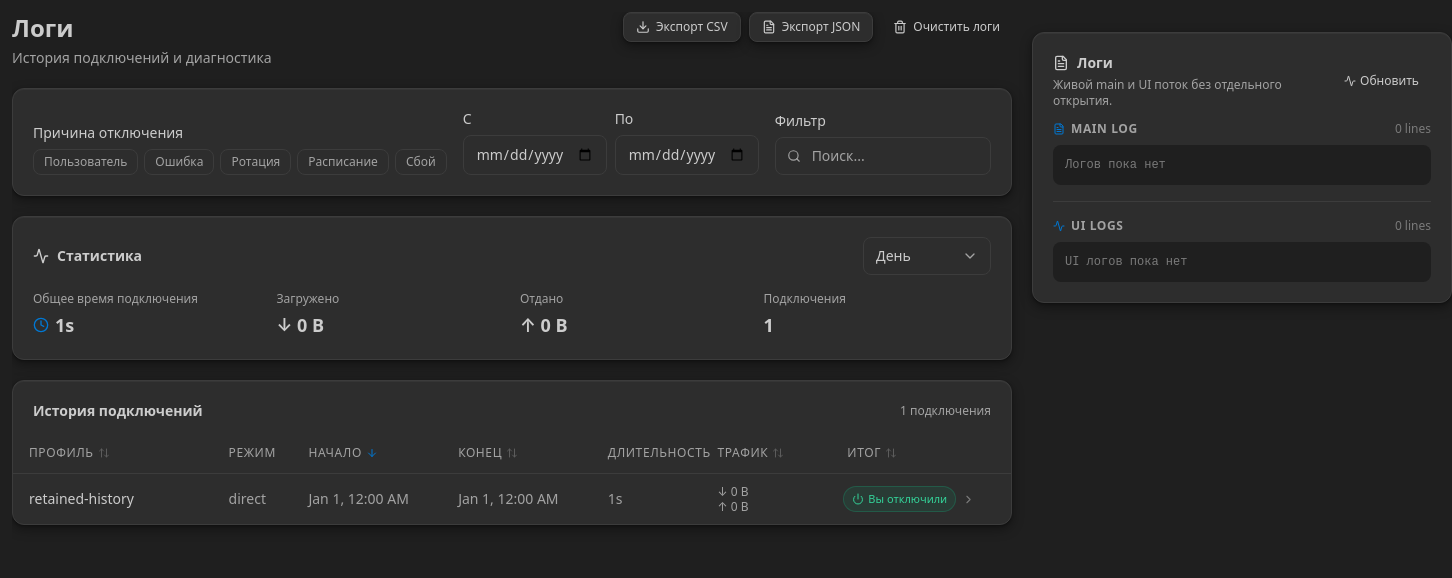
Logs cleanup › reloads the current filter after failed clear invalidated a pending read
The image size is (1452, 578).
Check: the text "retained-history" is shown, box 13,474 -> 213,524
Type "retained" into the field with placeholder "Поиск...".
click(883, 156); type("retained")  # box 775,137 -> 991,175
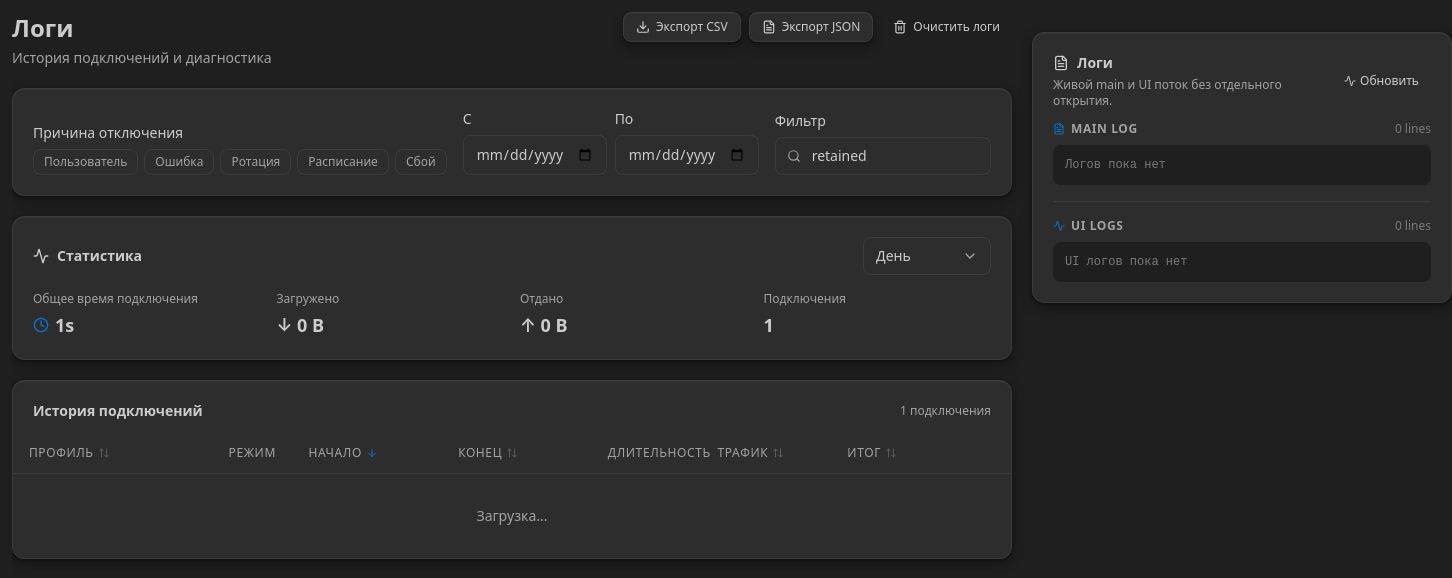
Click the button "Очистить логи".
click(947, 27)  # box 881,12 -> 1012,42
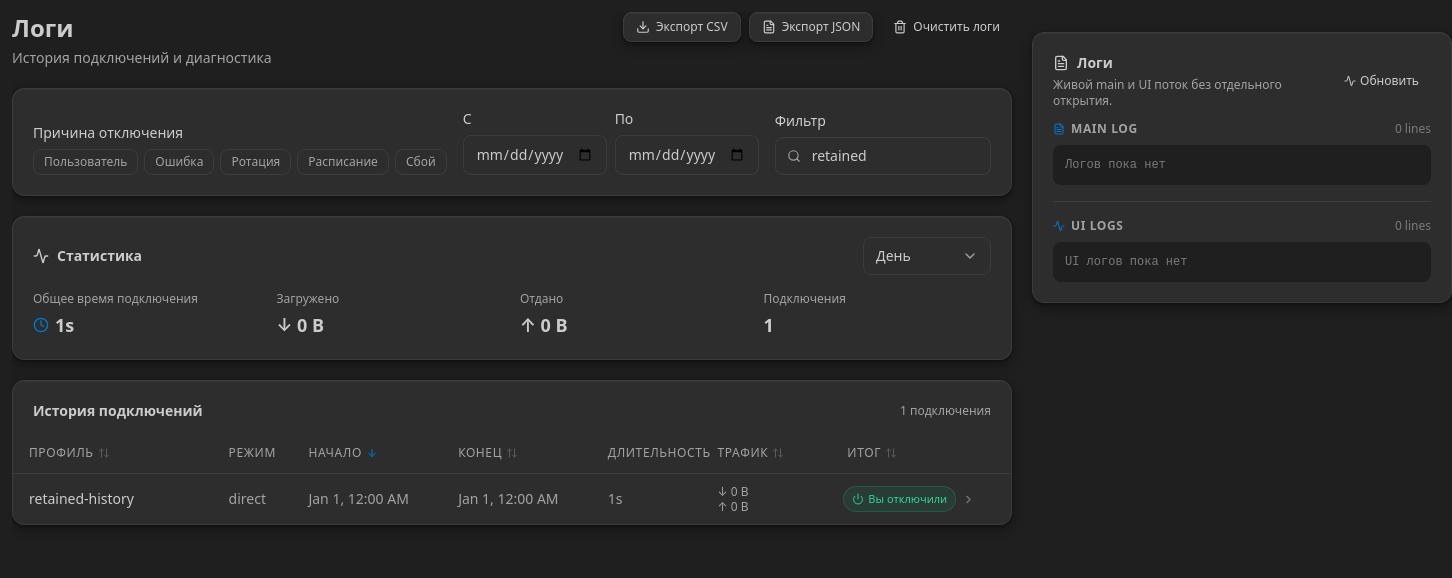
Check: the text "retained-history" is shown, box 13,474 -> 213,524
